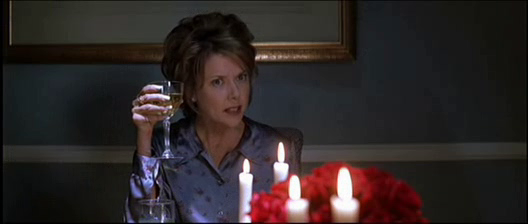face: (198, 62, 250, 128)
mcu: (1, 1, 528, 224)
person: (122, 12, 303, 224)
